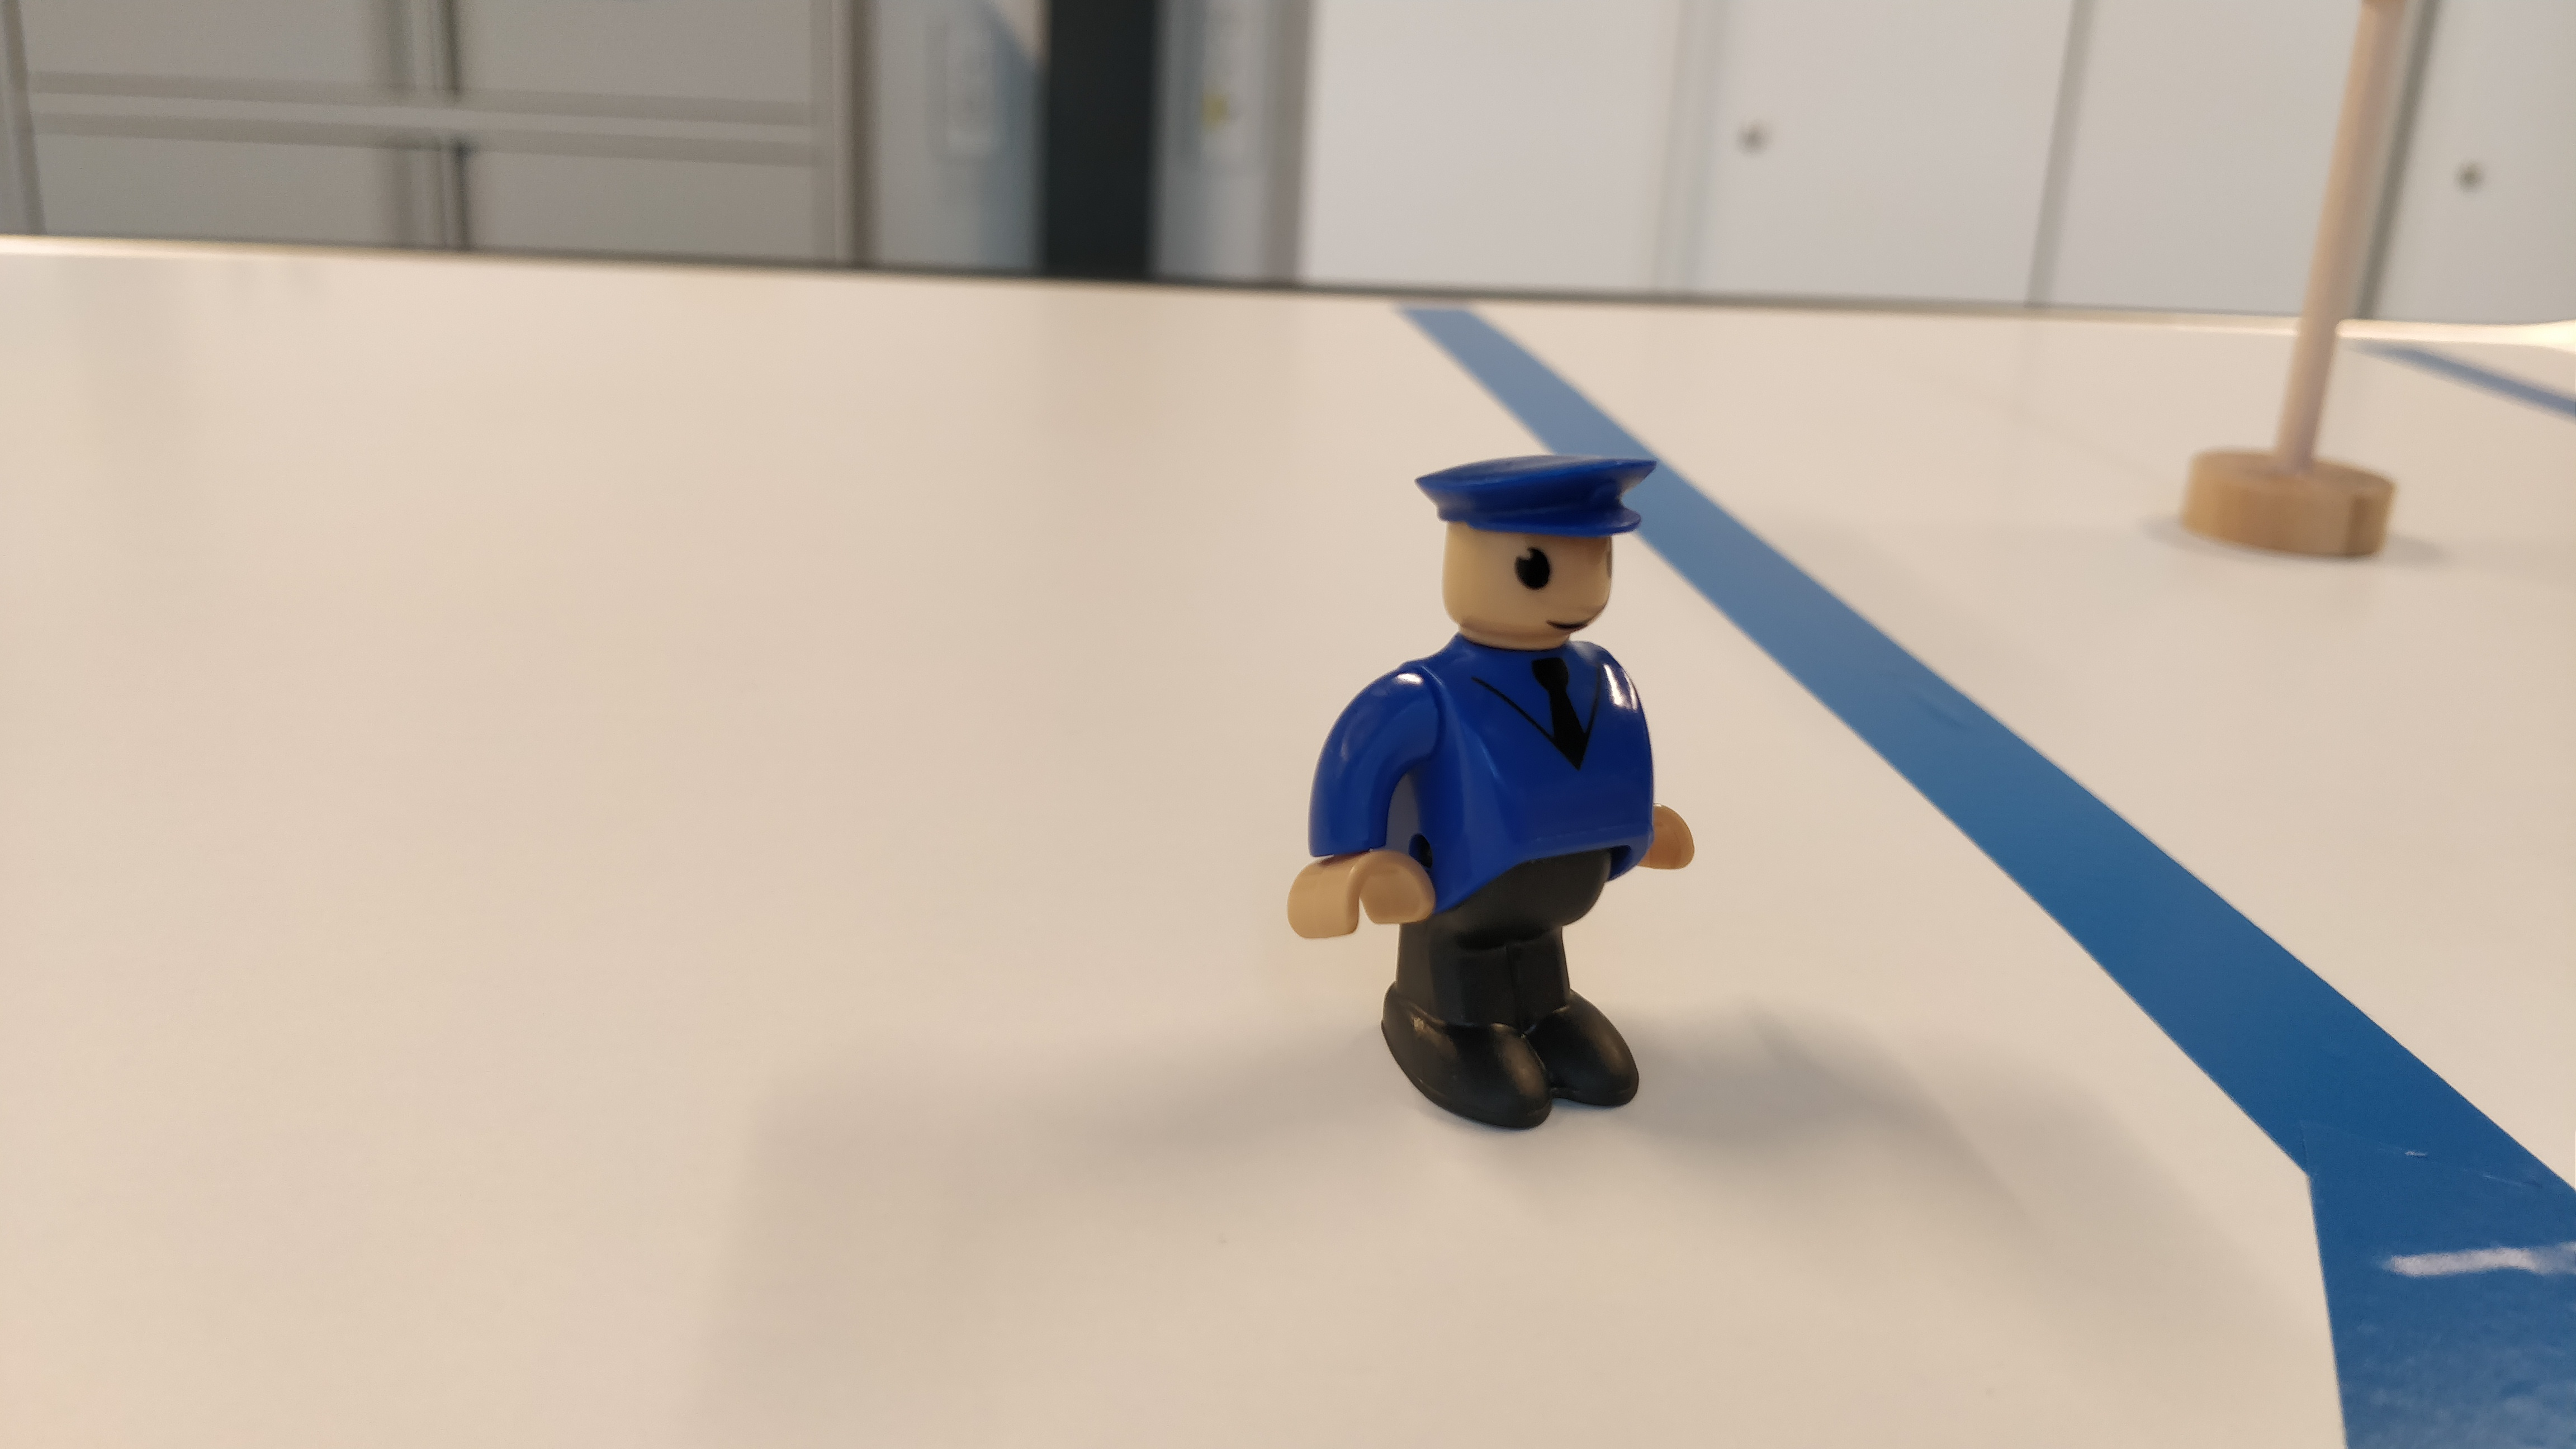Person: (1282, 451, 1702, 1143)
